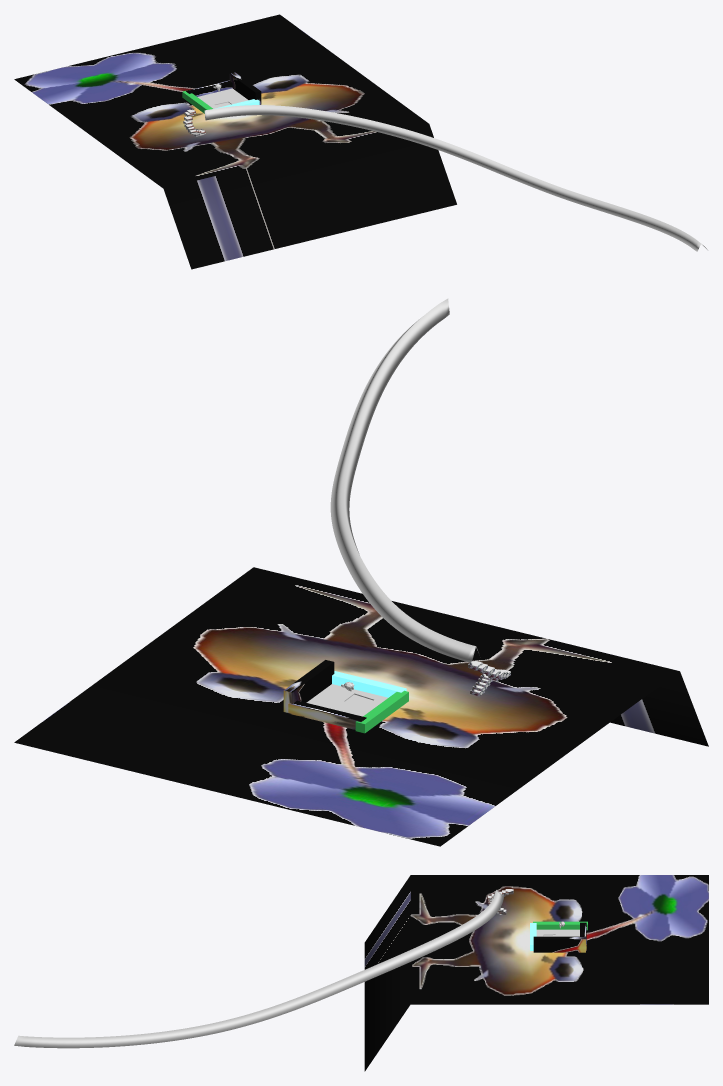
Rendered from Platform.glb.
The picture shows the model from 3 angles, top to bottom: view 1: azimuth 30°, elevation 25°; view 2: azimuth 150°, elevation 25°; view 3: azimuth 270°, elevation 25°; orthographic projection. The views are drawn at different scales.
Visible parts, largest first — view 1: Plane, NurbsCurve.002, Ground, Cube.002; view 2: Plane, NurbsCurve.002, Ground, Cube.002, Cube, Cube.003, Cube.001; view 3: Plane, NurbsCurve.002, Cube.002, Cube.003, Ground.
Boxes of the visible parts, x1,y1,x2,y2 form: Plane: (14, 14, 456, 269); NurbsCurve.002: (204, 105, 707, 251); Ground: (197, 88, 248, 108); Cube.002: (229, 72, 261, 104); Plane: (14, 567, 708, 846); NurbsCurve.002: (330, 298, 478, 662); Ground: (306, 684, 388, 716); Cube.002: (283, 660, 334, 712); Cube: (288, 700, 366, 729); Cube.003: (355, 690, 408, 733); Cube.001: (332, 671, 406, 697); Plane: (364, 875, 708, 1071); NurbsCurve.002: (14, 890, 504, 1048); Cube.002: (533, 936, 585, 952); Cube.003: (533, 921, 587, 930); Ground: (536, 929, 579, 936).
Bounding box in the file's own units: 119 × 29.83 × 206.
Materials: 5 (2 with a texture image).
